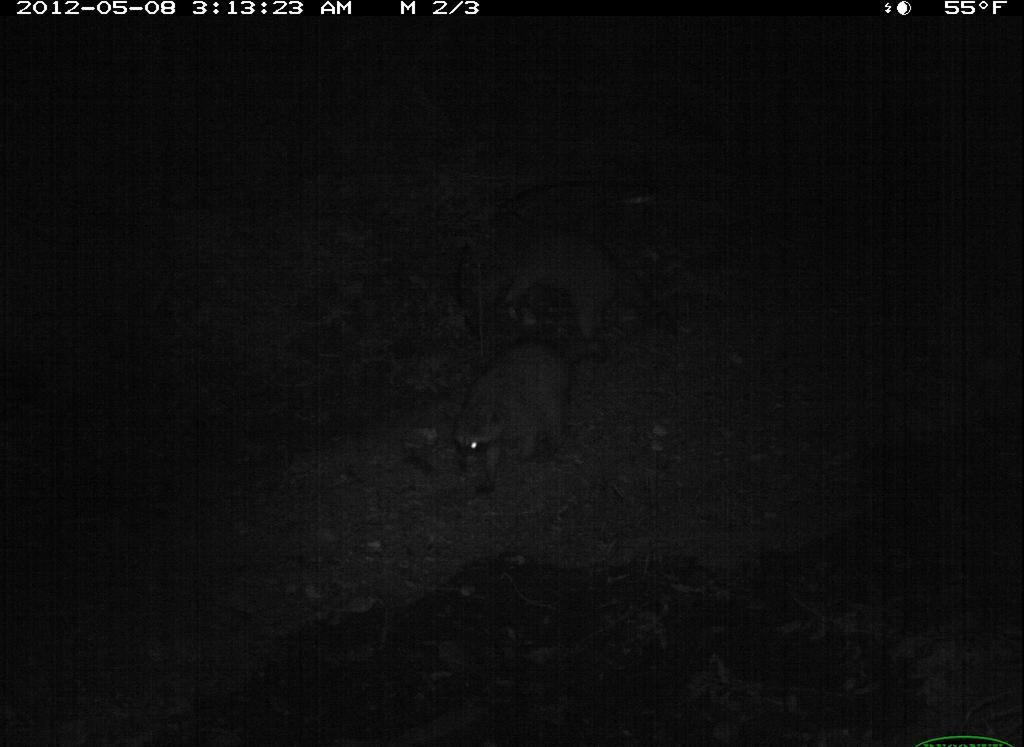raccoon: (438, 336, 603, 500)
